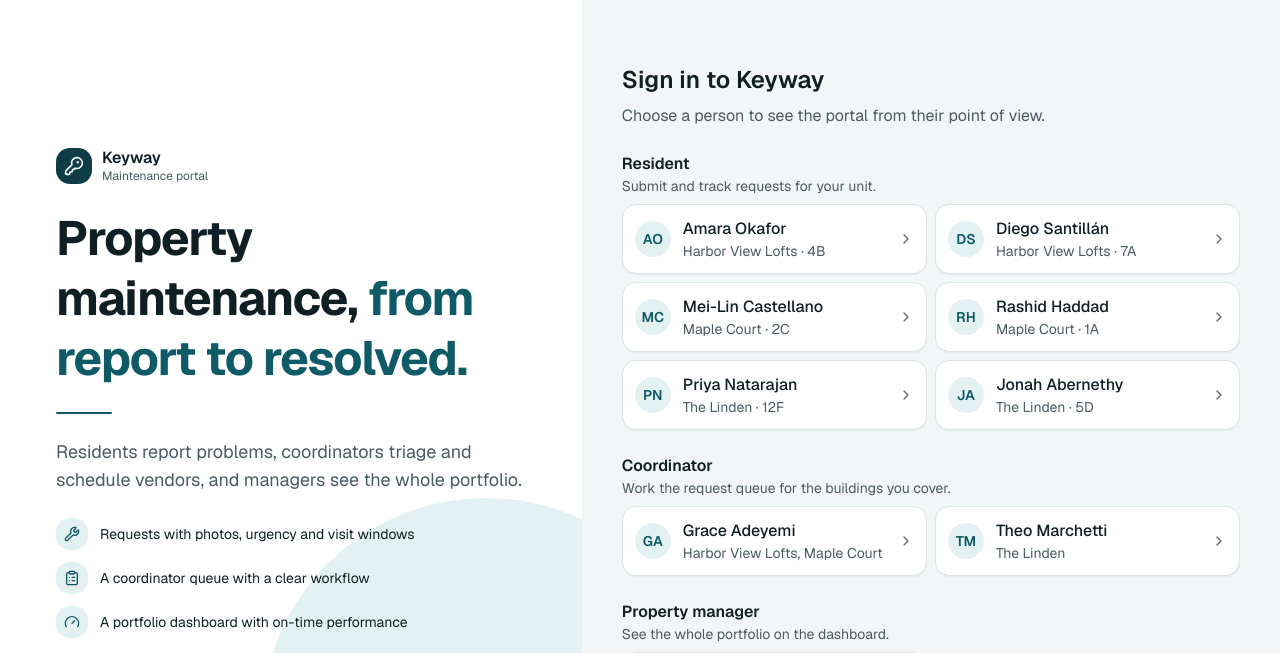
SignInScreen › explains a failed sign-in
The image size is (1280, 653).
Click the button "Amara Okafor": (774, 239) [622, 204, 927, 274]
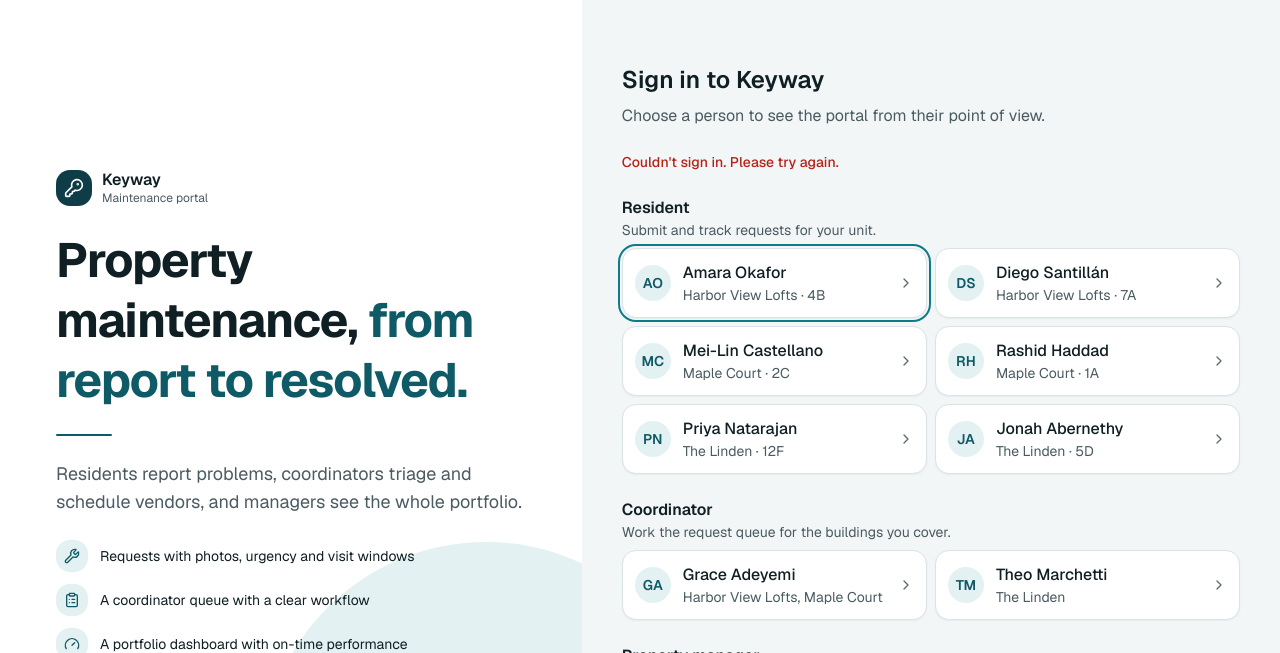
Result: the text "Couldn't sign in. Please try again." is shown at [622, 153, 839, 171]
